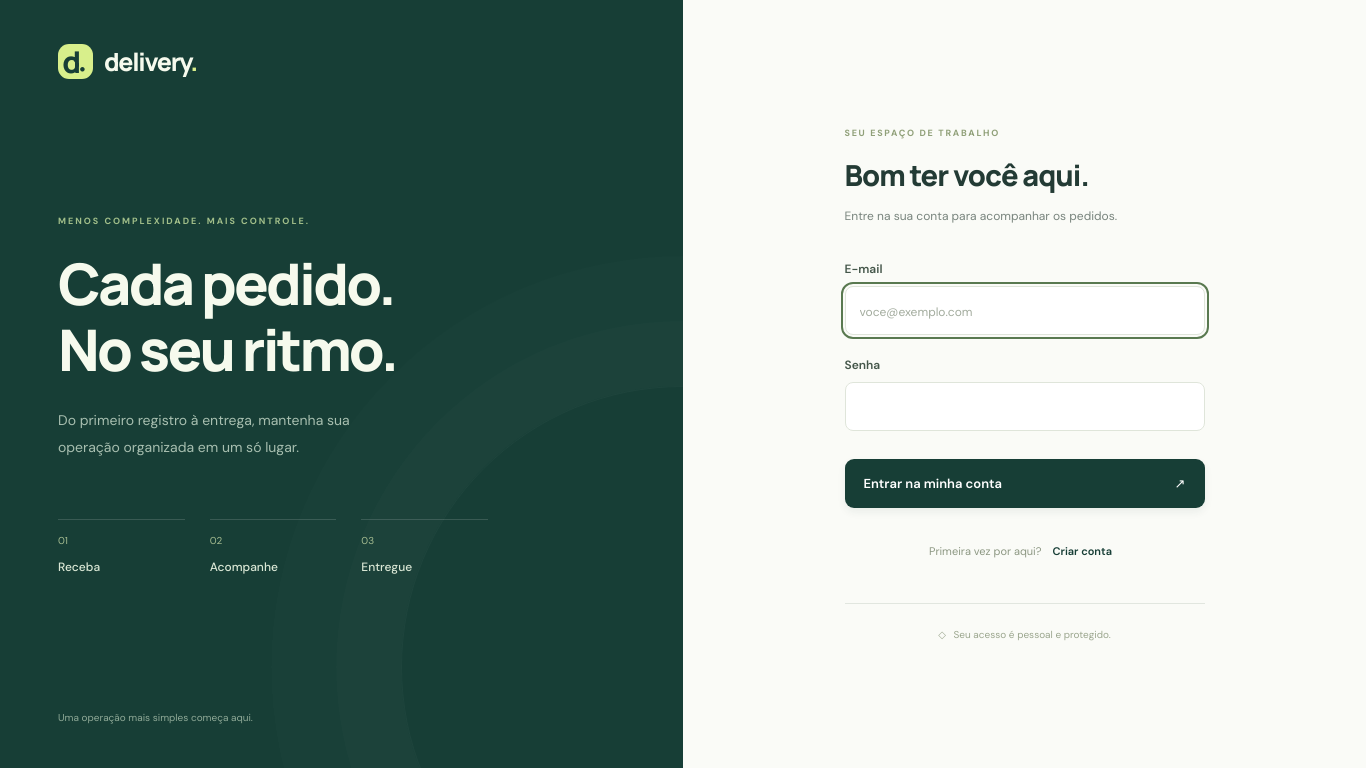
Authentication form › shows a login error and retains the email
Type "person@example.test" into the field labelled "E-mail" at (1024, 310), box x1=844 y1=286 x2=1204 y2=335
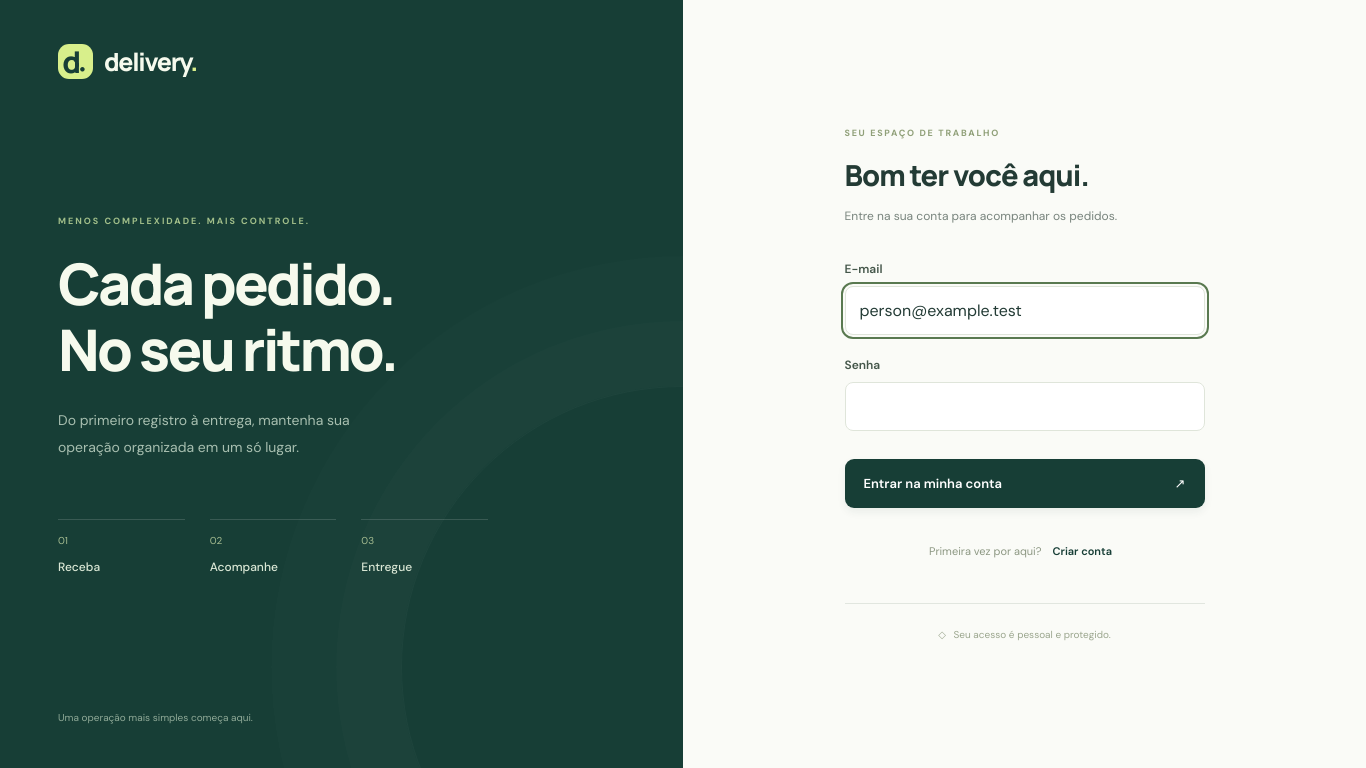
Type "incorrect" into the password field labelled "Senha" at (1024, 406), box x1=844 y1=382 x2=1204 y2=431
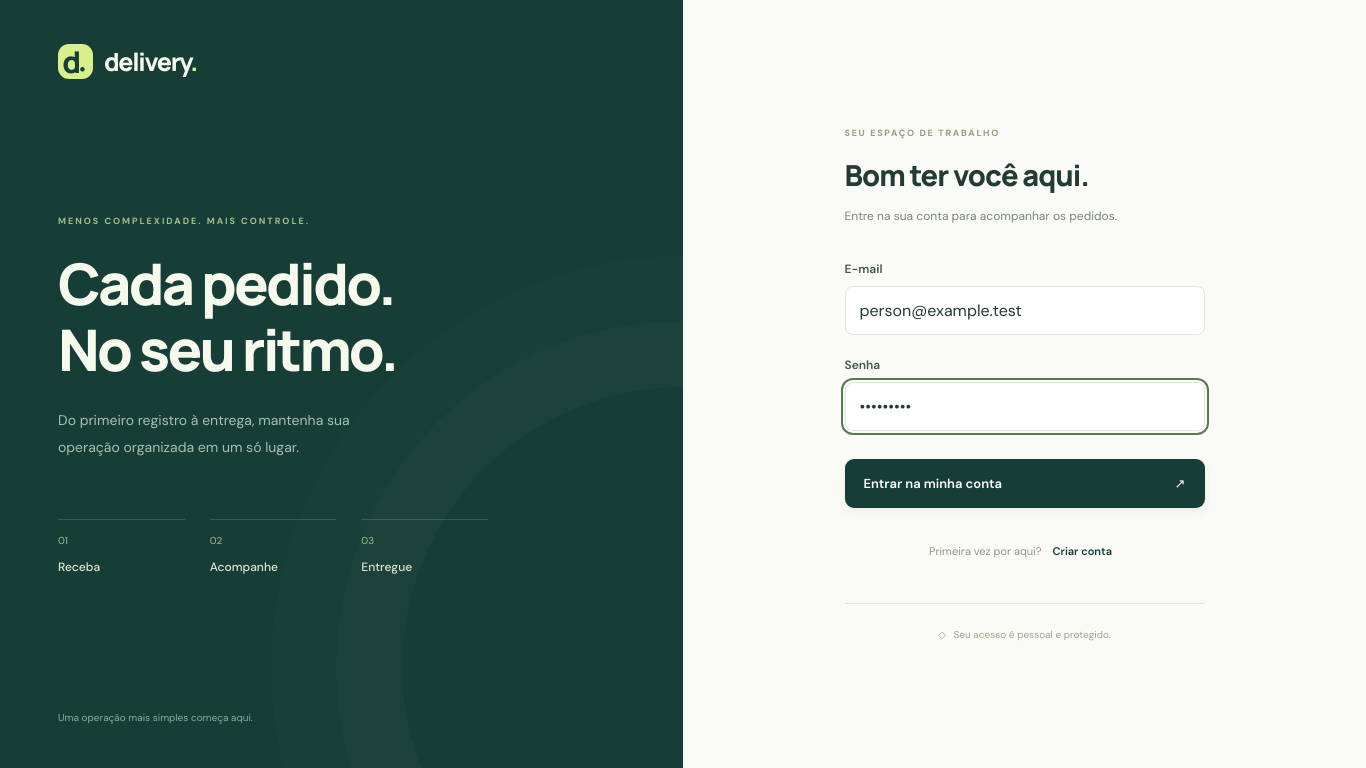
Click the button "Entrar na minha conta ↗" at (933, 483), box x1=844 y1=459 x2=1204 y2=508
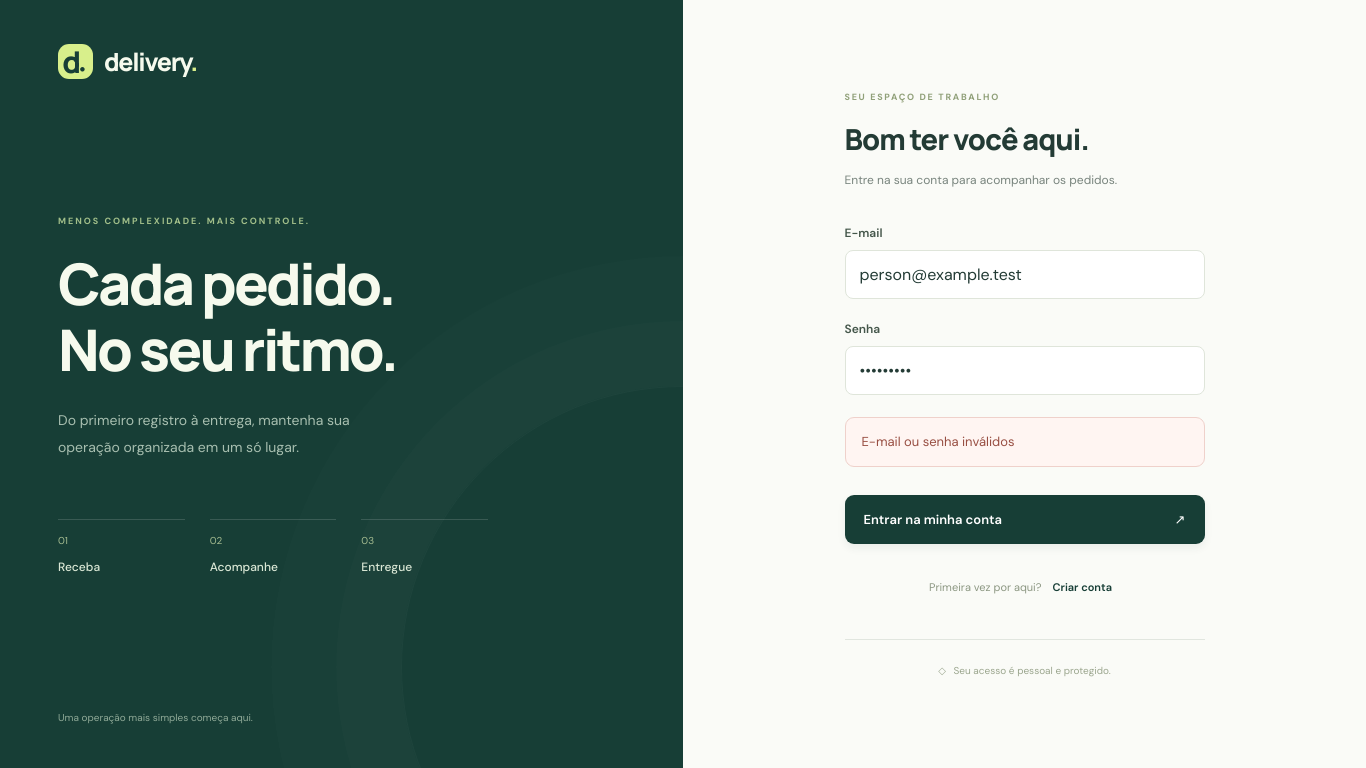
Check: the message reads "E-mail ou senha inválidos", box x1=862 y1=432 x2=1014 y2=450
